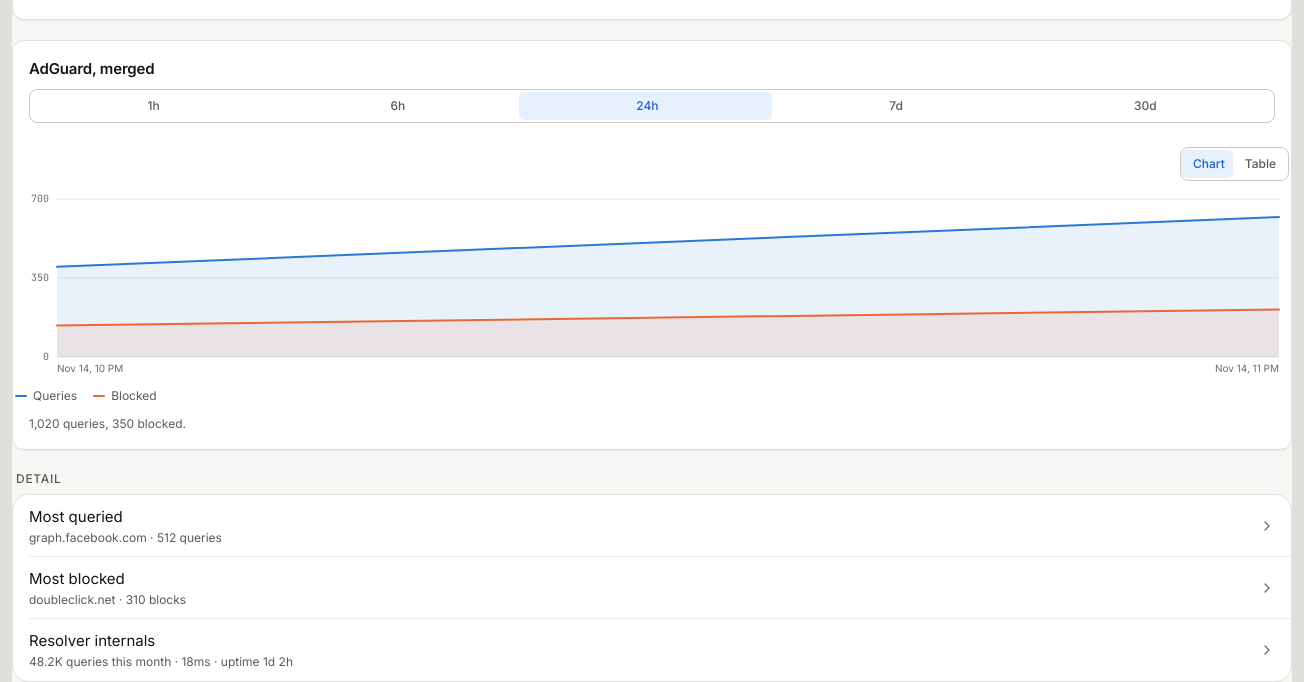
Overview on a phone › puts the internals and the upstream table one tap away
(page scrolled)
Click the button "Resolver internals". click: (92, 640)
box: [13,619,1291,681]
(page scrolled)
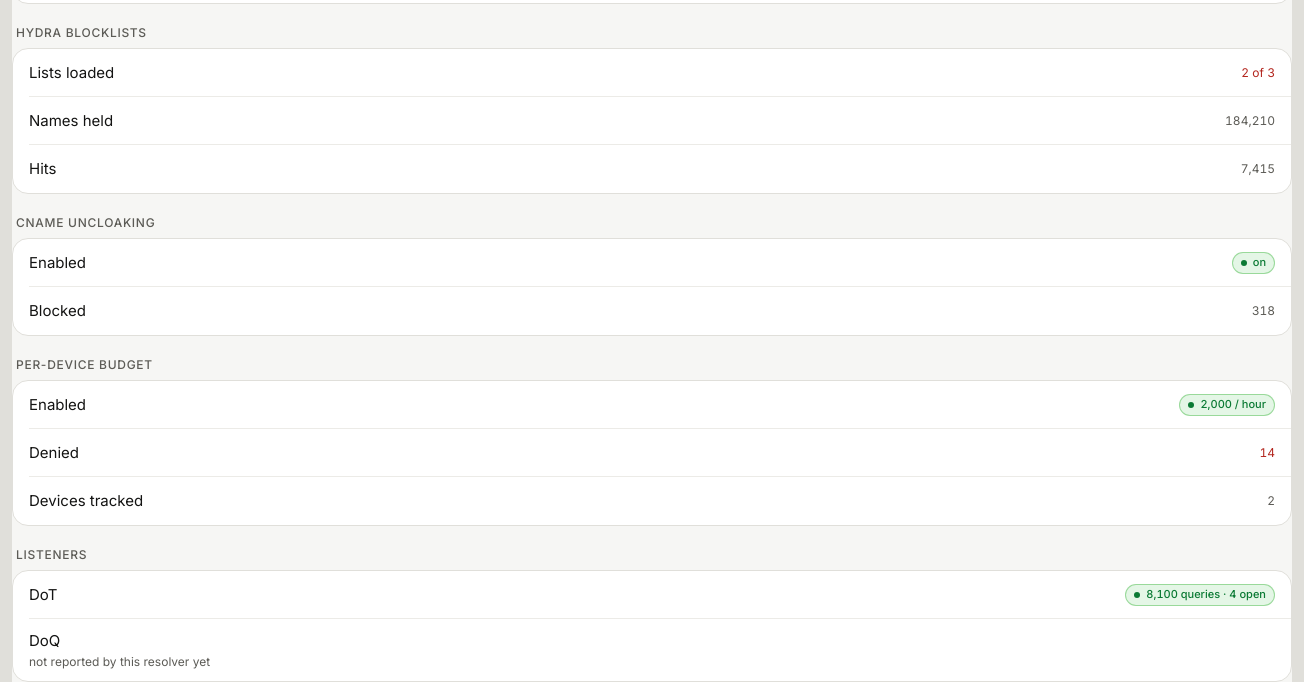
expect the text "not reported by this resolver yet" is shown: met, box [29,654,210,669]
expect the heading "Hydra blocklists" is shown: met, box [16,25,147,40]
expect the text "2 of 3" is shown: met, box [1241,65,1275,80]
